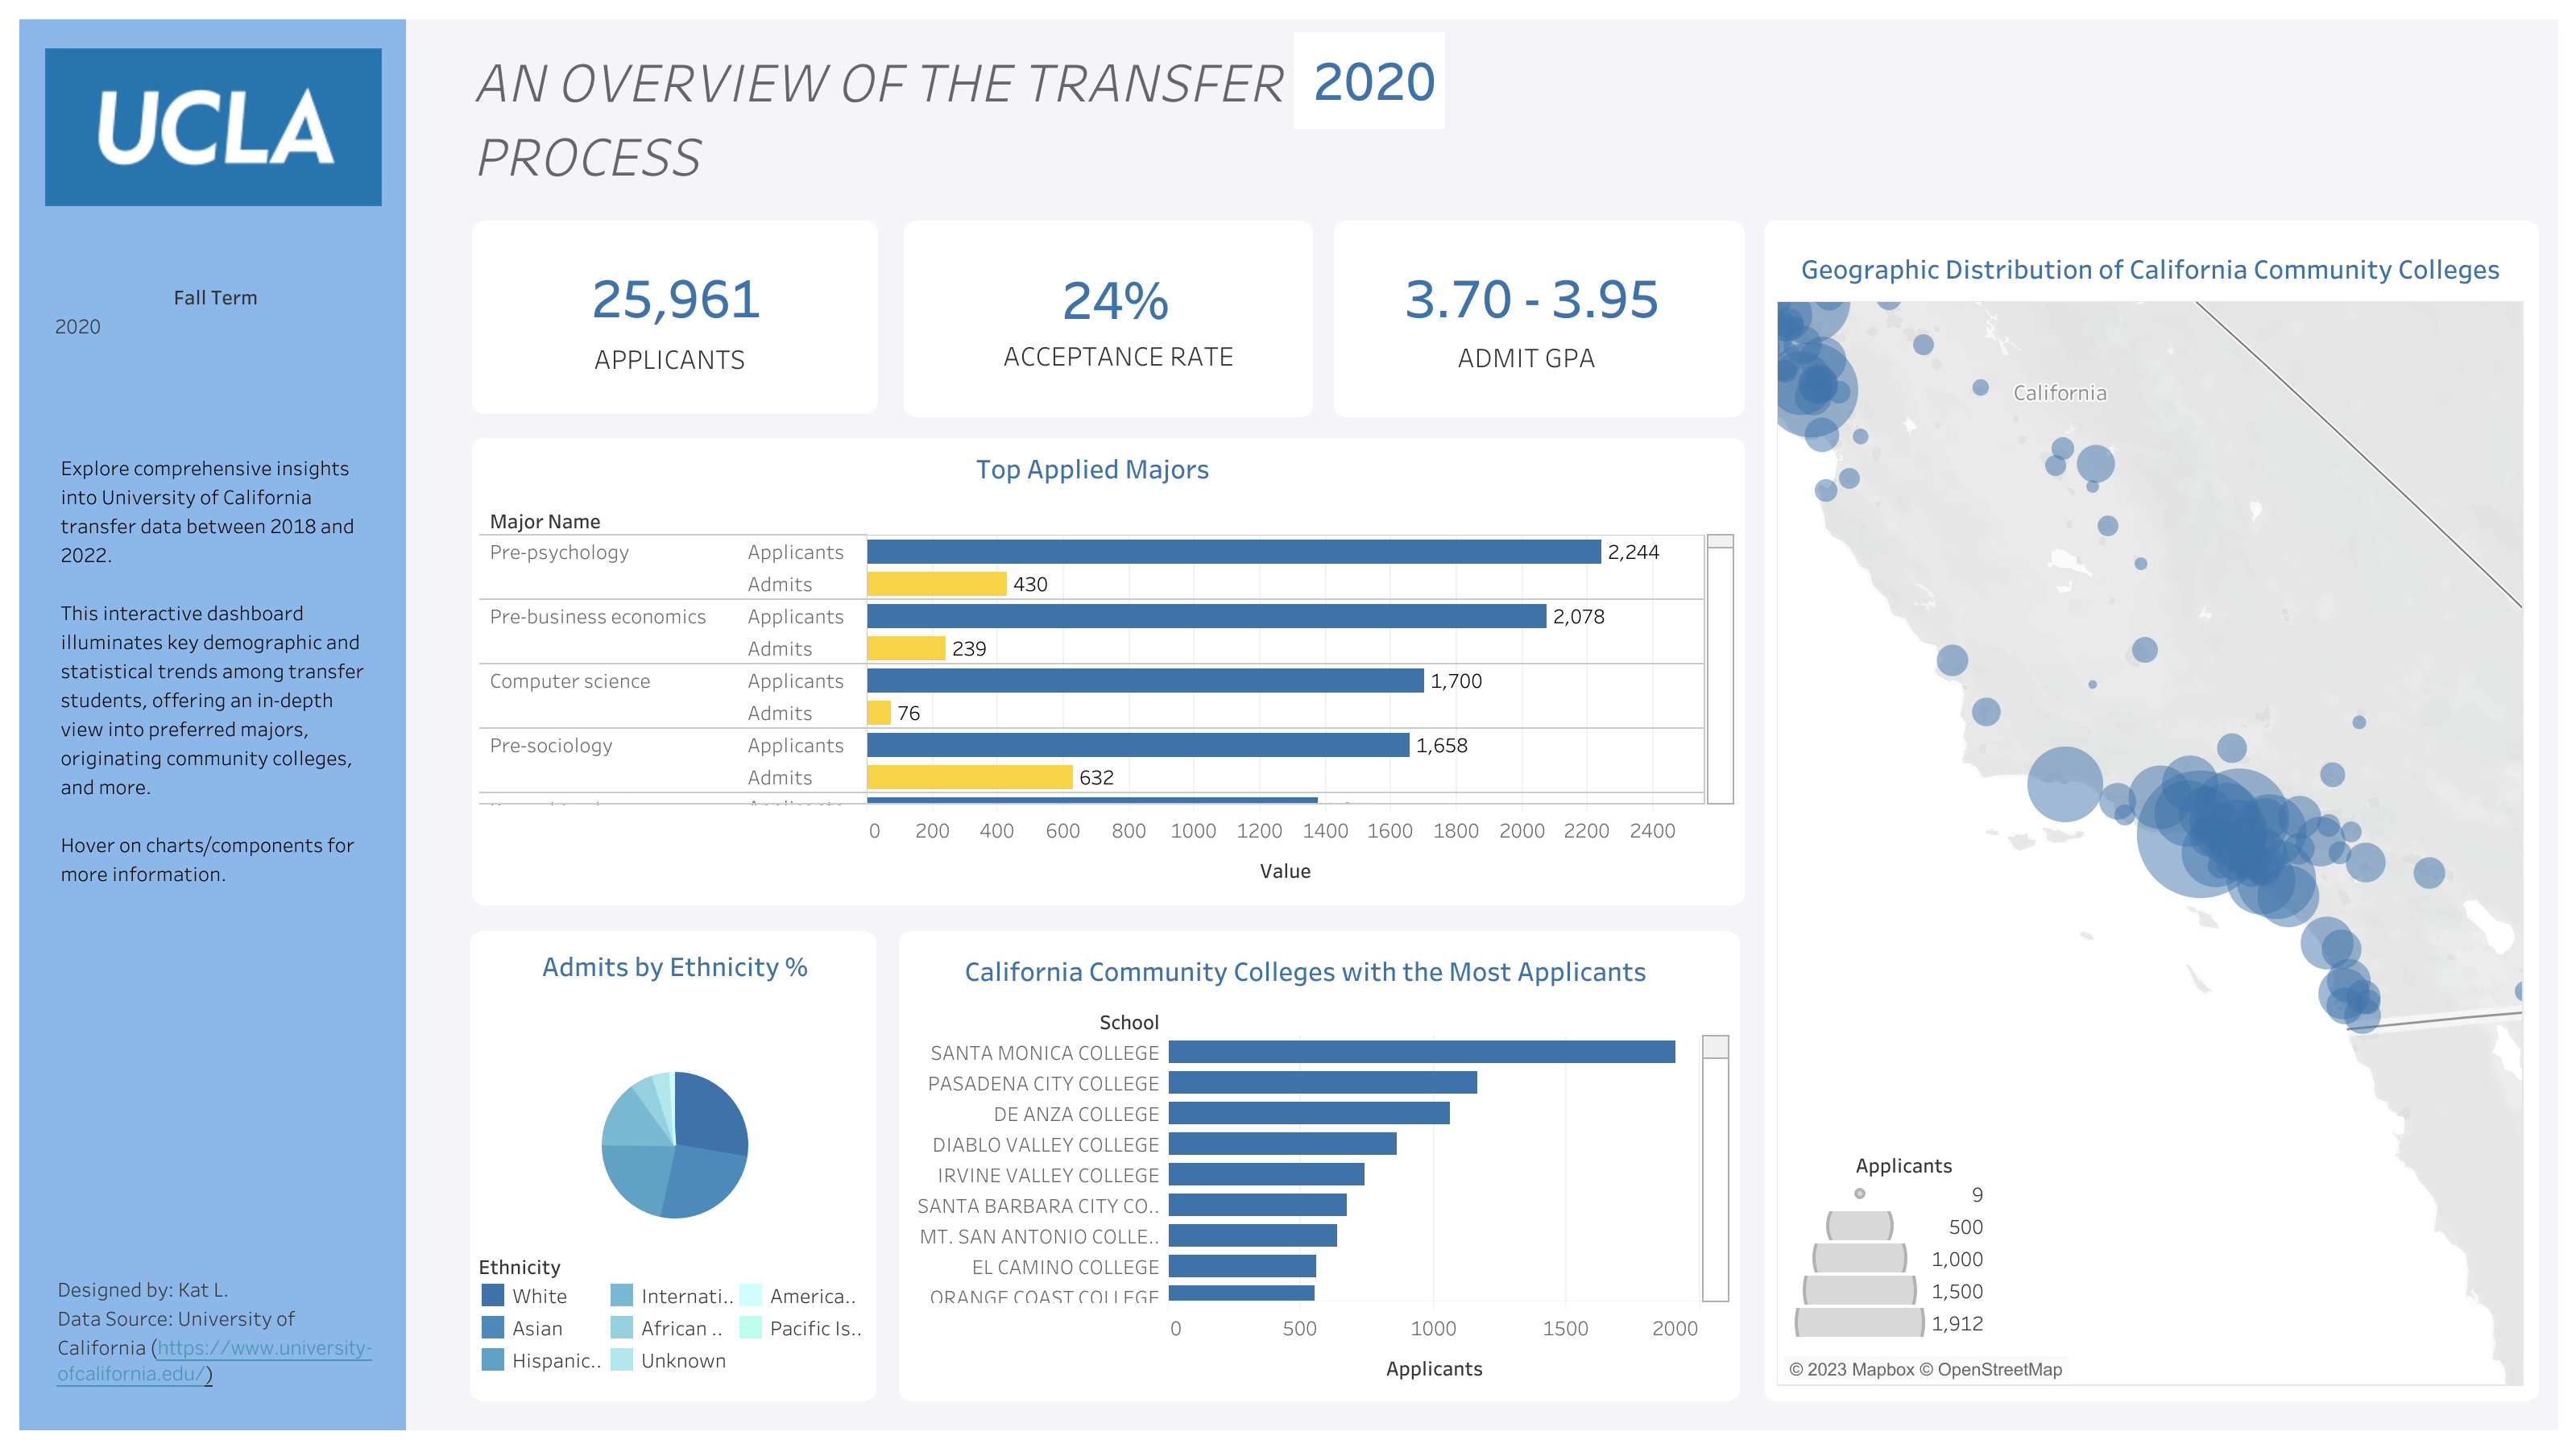

Layout of this report page (visuals, bound fields, positions):
{"tool":"tableau","page":{"name":"UCLA Transfer Dashboard","canvas":[1600,900],"ordinal":0},"visuals":[{"type":"worksheet","title":"[TEXT] Year","mark":"Text","box":[803,5,93,78]},{"type":"image","param":"/Users/kat/Desktop/portfolio/uc-transfer/img/ucla template.png","box":[8,8,1584,884]},{"type":"text","box":[291,22,556,102]},{"type":"image","param":"/Users/kat/Desktop/portfolio/uc-transfer/img/logo_UCLA_blue_boxed.png","box":[28,30,209,108]},{"type":"worksheet","title":"[TEXT] Applicants","mark":"Automatic","box":[339,147,138,79]},{"type":"worksheet","title":"[TEXT] GPA Range","mark":"Automatic","box":[868,147,186,127]},{"type":"worksheet","title":"[TEXT] Admit %","mark":"Automatic","box":[655,148,114,74]},{"type":"worksheet","title":"[MAP] Geographic Distr. CCCs","mark":"Automatic","rows":["lat"],"cols":["long"],"box":[1103,149,464,712]},{"type":"filter","title":"[MAP] Geographic Distr. CCCs","param":"[federated.1iigo600t431yh1fhnt7219nr6re].[none:year:ok]","box":[32,174,204,76]},{"type":"text","box":[620,200,152,40]},{"type":"text","box":[902,201,152,40]},{"type":"text","box":[366,202,152,40]},{"type":"worksheet","title":"[BAR GRAPH] Top Applied Majors","mark":"Automatic","rows":["major_name"],"box":[298,273,779,284]},{"type":"text","box":[35,279,198,327]},{"type":"worksheet","title":"[PIE CHART] Admits by Ethnicity %","mark":"Pie","box":[299,582,240,220]},{"type":"worksheet","title":"[BAR GRAPH] CCCs Most Applicants","mark":"Automatic","rows":["school"],"cols":["app"],"box":[565,585,509,280]},{"type":"legend","title":"[MAP] Geographic Distr. CCCs","param":"[federated.1iigo600t431yh1fhnt7219nr6re].[sum:app:qk]","box":[1111,712,140,118]},{"type":"text","box":[33,755,202,141]},{"type":"legend","title":"[PIE CHART] Admits by Ethnicity %","param":"[federated.1iigo600t431yh1fhnt7219nr6re].[none:ethnicity:nk]","box":[296,775,246,95]}]}

Visuals, with their boxes in screenshot pixels (x1, y1, x2, y2), scaled from the page's 1600x900 canvas onto the 2576x1448 screenshot:
"[TEXT] Year" worksheet (Text marks): box(1293, 8, 1443, 134)
image: box(13, 13, 2563, 1435)
text: box(469, 35, 1364, 200)
image: box(45, 48, 382, 222)
"[TEXT] Applicants" worksheet: box(546, 237, 768, 363)
"[TEXT] GPA Range" worksheet: box(1398, 237, 1697, 441)
"[TEXT] Admit %" worksheet: box(1054, 238, 1238, 358)
"[MAP] Geographic Distr. CCCs" worksheet: box(1776, 240, 2523, 1385)
"[MAP] Geographic Distr. CCCs" filter: box(52, 280, 380, 402)
text: box(998, 322, 1243, 386)
text: box(1452, 324, 1697, 387)
text: box(590, 325, 834, 389)
"[BAR GRAPH] Top Applied Majors" worksheet: box(480, 439, 1734, 896)
text: box(56, 449, 375, 975)
"[PIE CHART] Admits by Ethnicity %" worksheet (Pie marks): box(482, 937, 868, 1290)
"[BAR GRAPH] CCCs Most Applicants" worksheet: box(909, 941, 1729, 1392)
"[MAP] Geographic Distr. CCCs" legend: box(1789, 1145, 2014, 1335)
text: box(53, 1214, 379, 1442)
"[PIE CHART] Admits by Ethnicity %" legend: box(477, 1247, 872, 1400)
